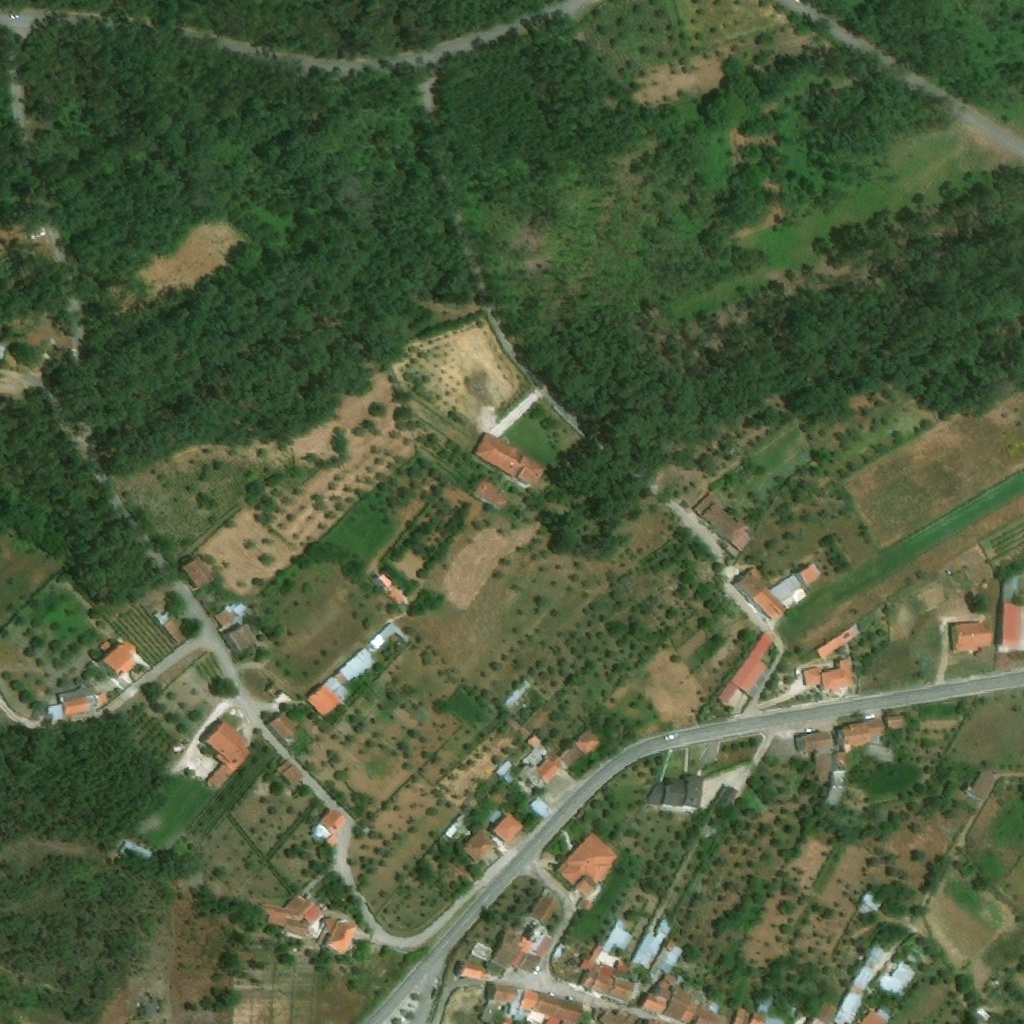0 no-damage: (492, 728, 603, 821), (555, 830, 620, 898), (471, 431, 549, 487), (203, 718, 258, 792), (729, 628, 778, 699), (691, 495, 751, 552), (255, 892, 323, 942), (733, 572, 790, 623), (839, 715, 912, 754), (45, 684, 109, 725), (646, 773, 703, 809), (631, 918, 672, 968), (321, 917, 364, 960), (816, 621, 862, 659), (334, 644, 378, 683), (309, 807, 348, 849), (535, 991, 586, 1023), (491, 930, 533, 967), (101, 639, 137, 677), (472, 478, 512, 512), (948, 622, 994, 651), (461, 828, 498, 862), (307, 685, 342, 718), (223, 621, 259, 653), (820, 659, 855, 691), (264, 713, 301, 743), (180, 557, 214, 589), (661, 986, 692, 1021), (1000, 603, 1023, 649), (503, 675, 534, 709), (769, 572, 803, 602), (815, 752, 847, 783), (119, 840, 157, 866), (576, 970, 614, 996), (313, 910, 338, 949), (526, 894, 557, 925), (652, 944, 684, 974), (452, 957, 489, 982), (604, 919, 632, 952), (832, 993, 862, 1023), (793, 730, 834, 751), (971, 768, 996, 801), (379, 619, 412, 643), (276, 758, 305, 785), (322, 674, 352, 700), (162, 615, 188, 645), (494, 815, 522, 842), (853, 893, 884, 917), (711, 783, 738, 809), (577, 942, 603, 969), (795, 562, 824, 586), (607, 979, 636, 1003), (487, 984, 520, 1005), (213, 606, 238, 633), (596, 1009, 639, 1023), (695, 1007, 731, 1023), (518, 987, 541, 1012), (641, 992, 668, 1013), (717, 682, 739, 707), (860, 1007, 891, 1023), (25, 222, 49, 241), (802, 666, 822, 687), (853, 967, 872, 988), (522, 953, 541, 974), (151, 609, 173, 627), (679, 1003, 697, 1023), (575, 896, 595, 913), (801, 1013, 831, 1023), (732, 1008, 751, 1023), (657, 974, 676, 988), (653, 985, 670, 998), (749, 1013, 769, 1023), (615, 959, 630, 972)
